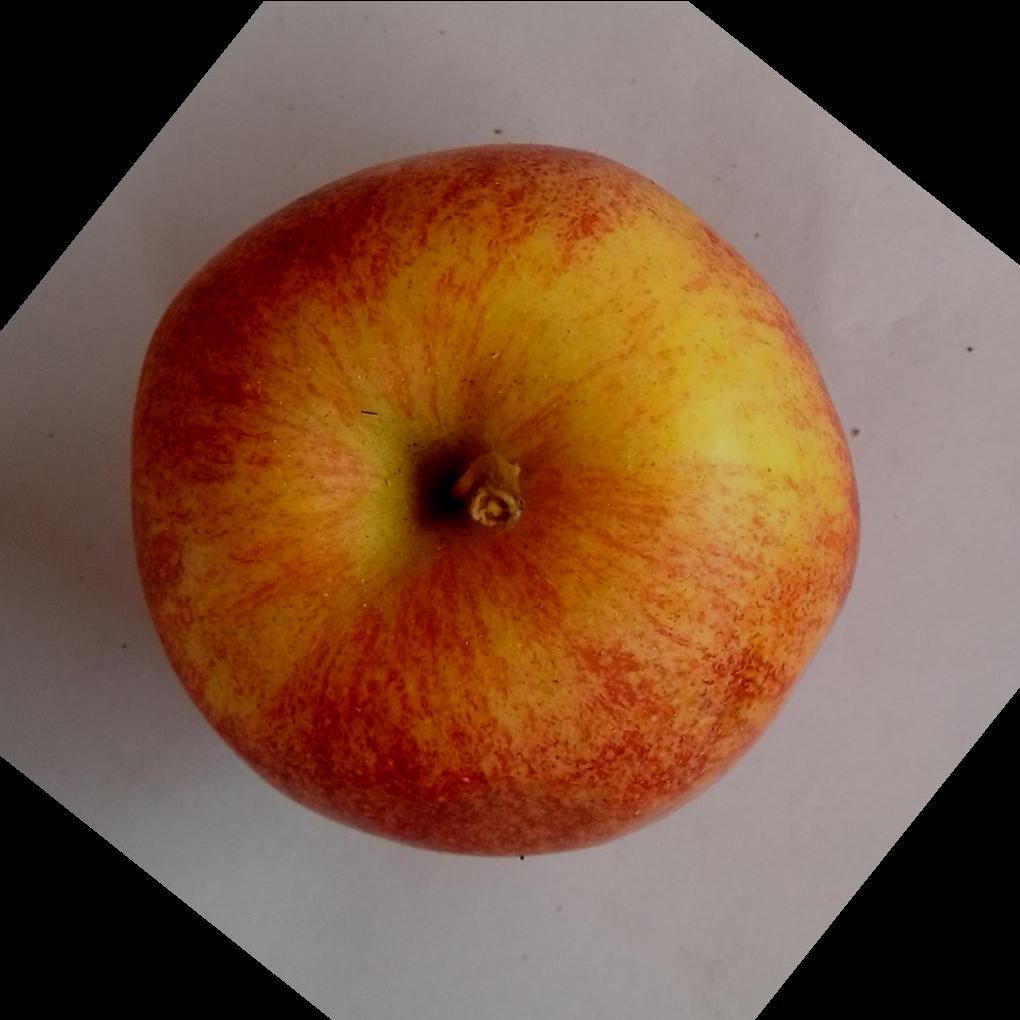FreshGuava: (131, 140, 865, 860)
